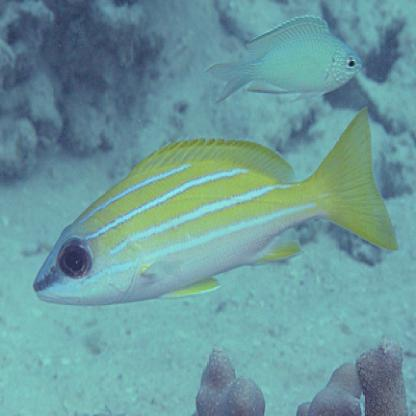Lutjanidae -Snappers-: (32, 105, 402, 310)
